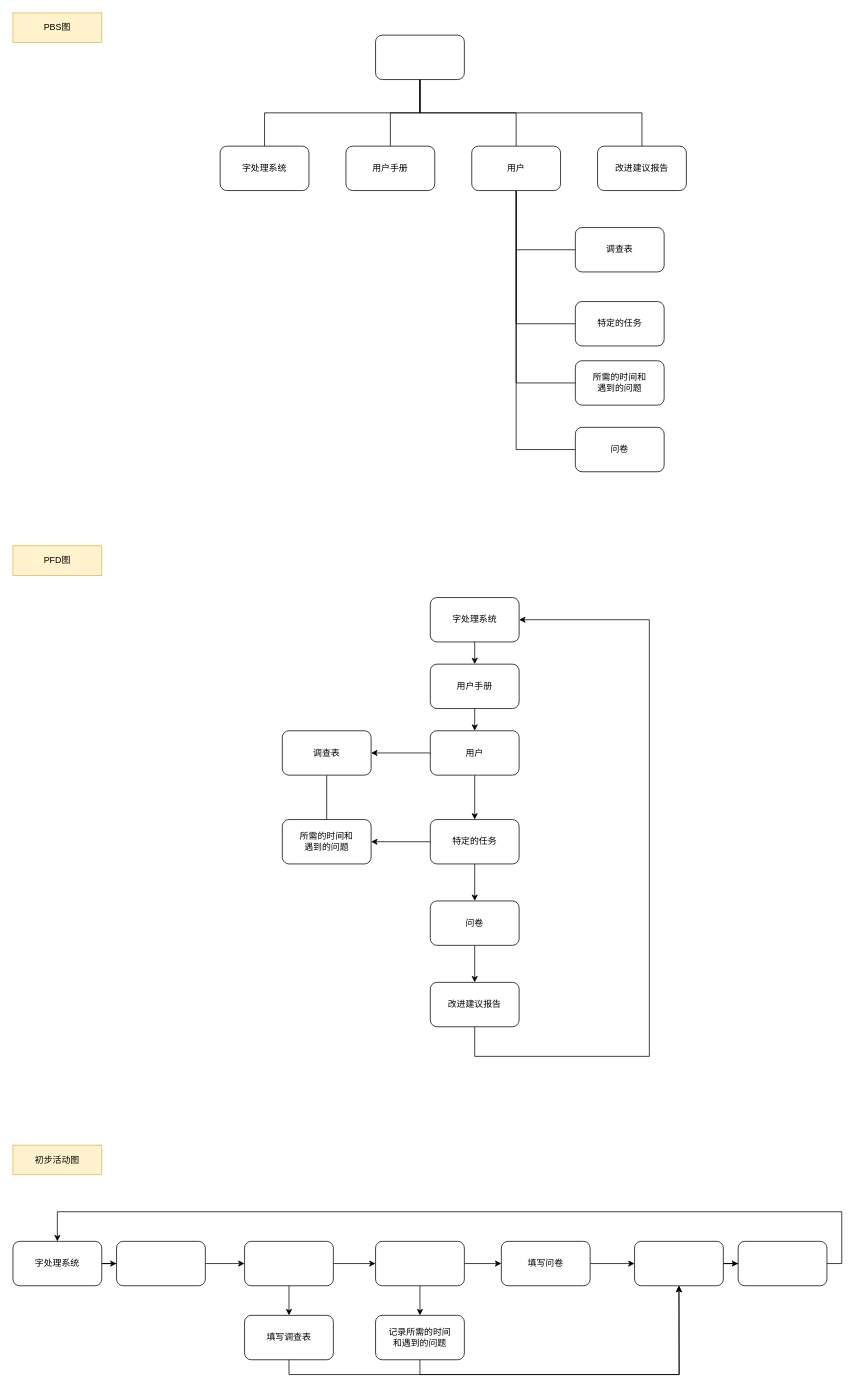
This 861x1393 diagram has some shape labels left out. The centre of each missing label's shape, as x and y in pixels:
"分析所有测试 中的数据" goes at point 678,1263.
"字处理软件的 可用性测试" goes at point 419,57.
"完成对系统的 改进建议报告" goes at point 782,1263.
"完成特定的 任务" goes at point 419,1263.
"编写用户手册" goes at point 160,1263.
"选定用户" goes at point 288,1263.
